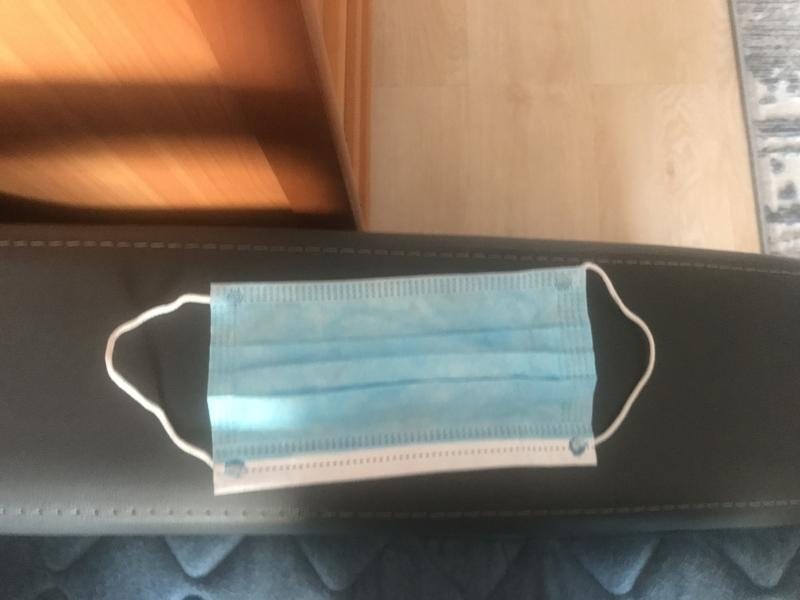medical_mask: (106, 262, 654, 496)
